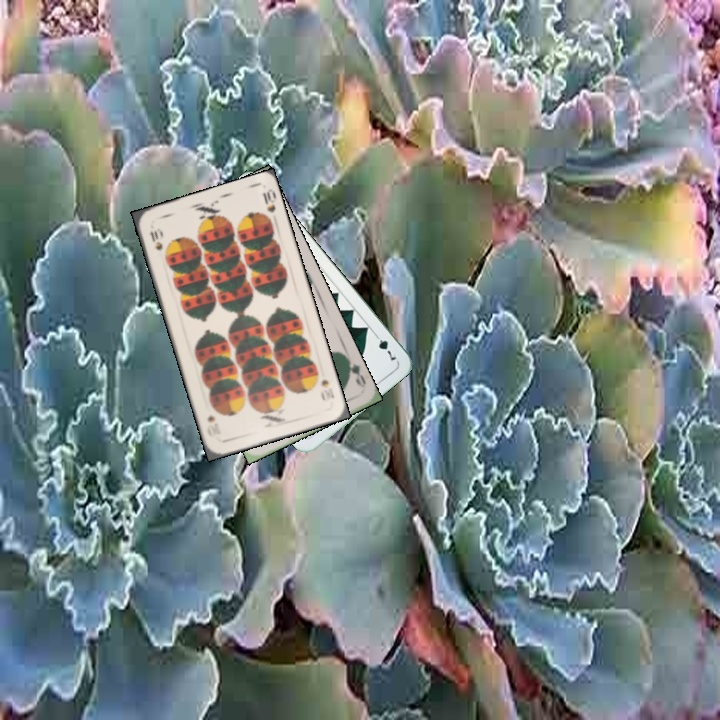G7: (369, 329, 401, 363)
GO: (342, 353, 368, 390)
S10: (146, 225, 169, 260), (317, 375, 337, 403)
